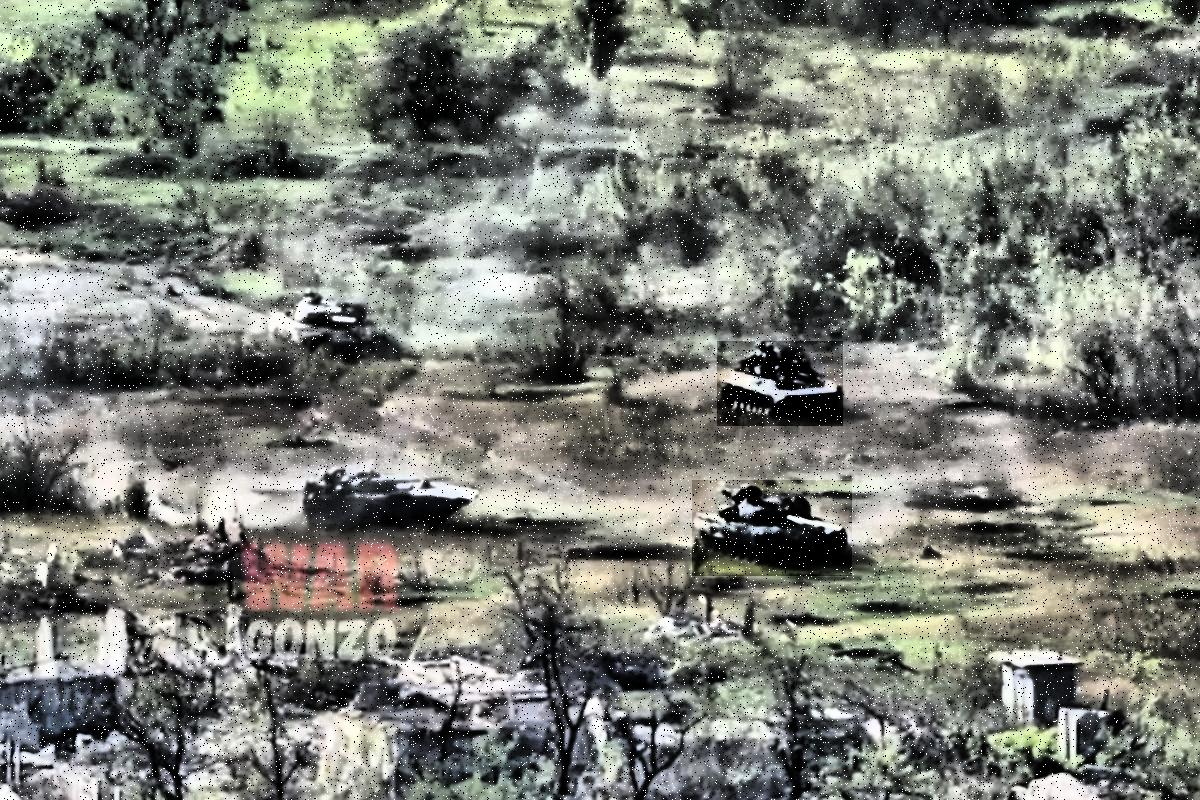military-vehicle: (693, 480, 852, 576), (718, 341, 844, 426), (266, 294, 386, 368)
